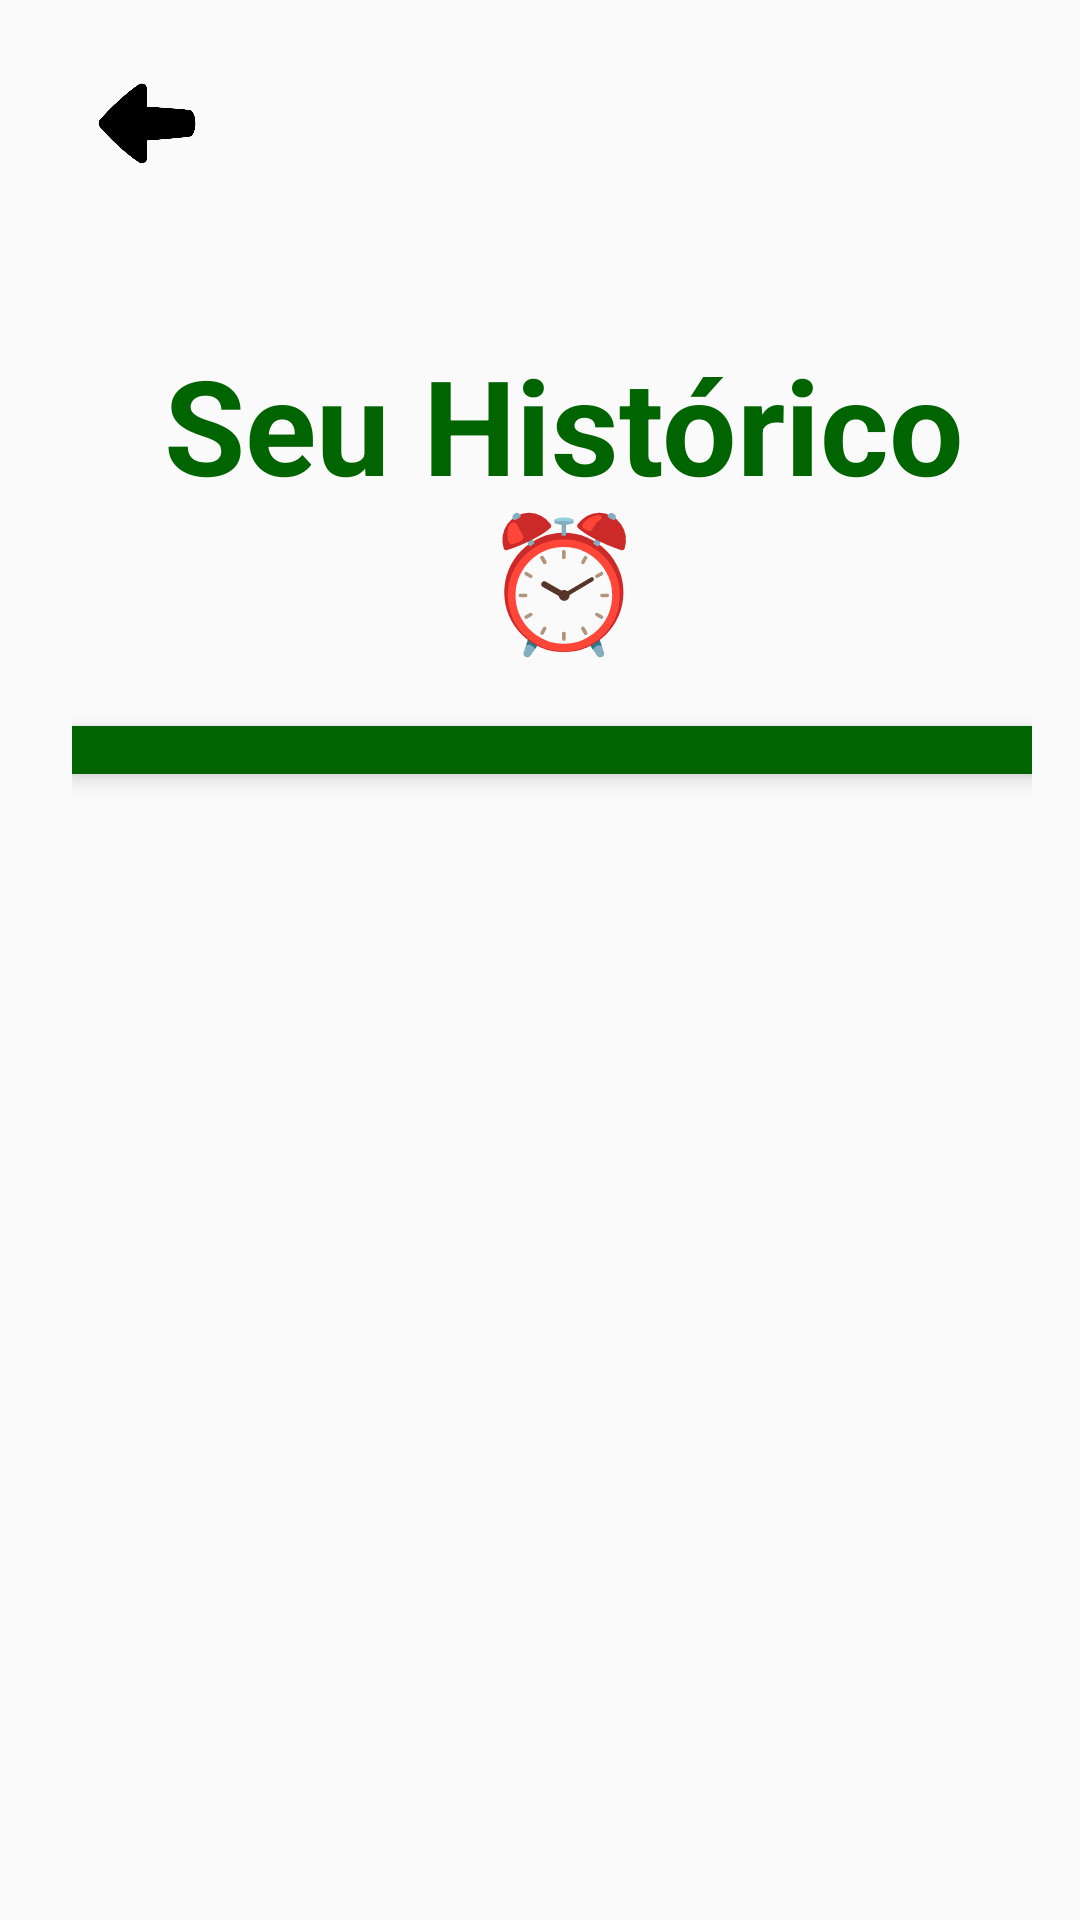

Where to tap for icons on this 1080 × 1920 app screen, as point (x, y):
left: point (147, 123)
